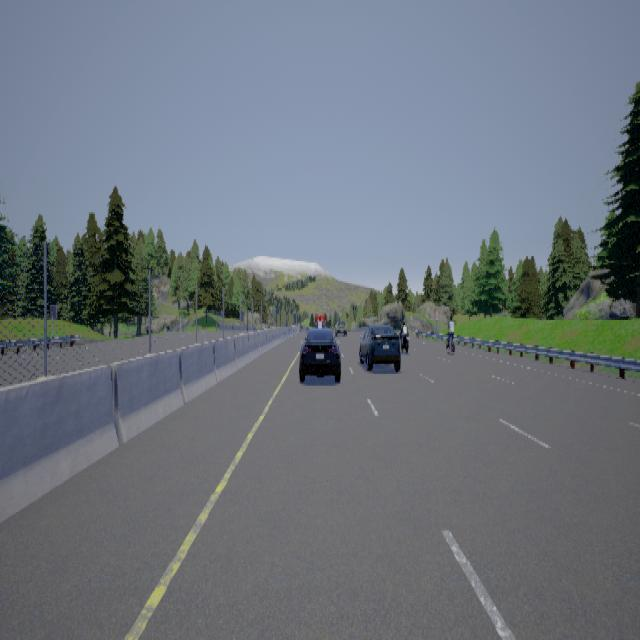bike: (443, 313, 458, 357)
vehicle: (298, 313, 346, 381), (358, 324, 402, 371)
